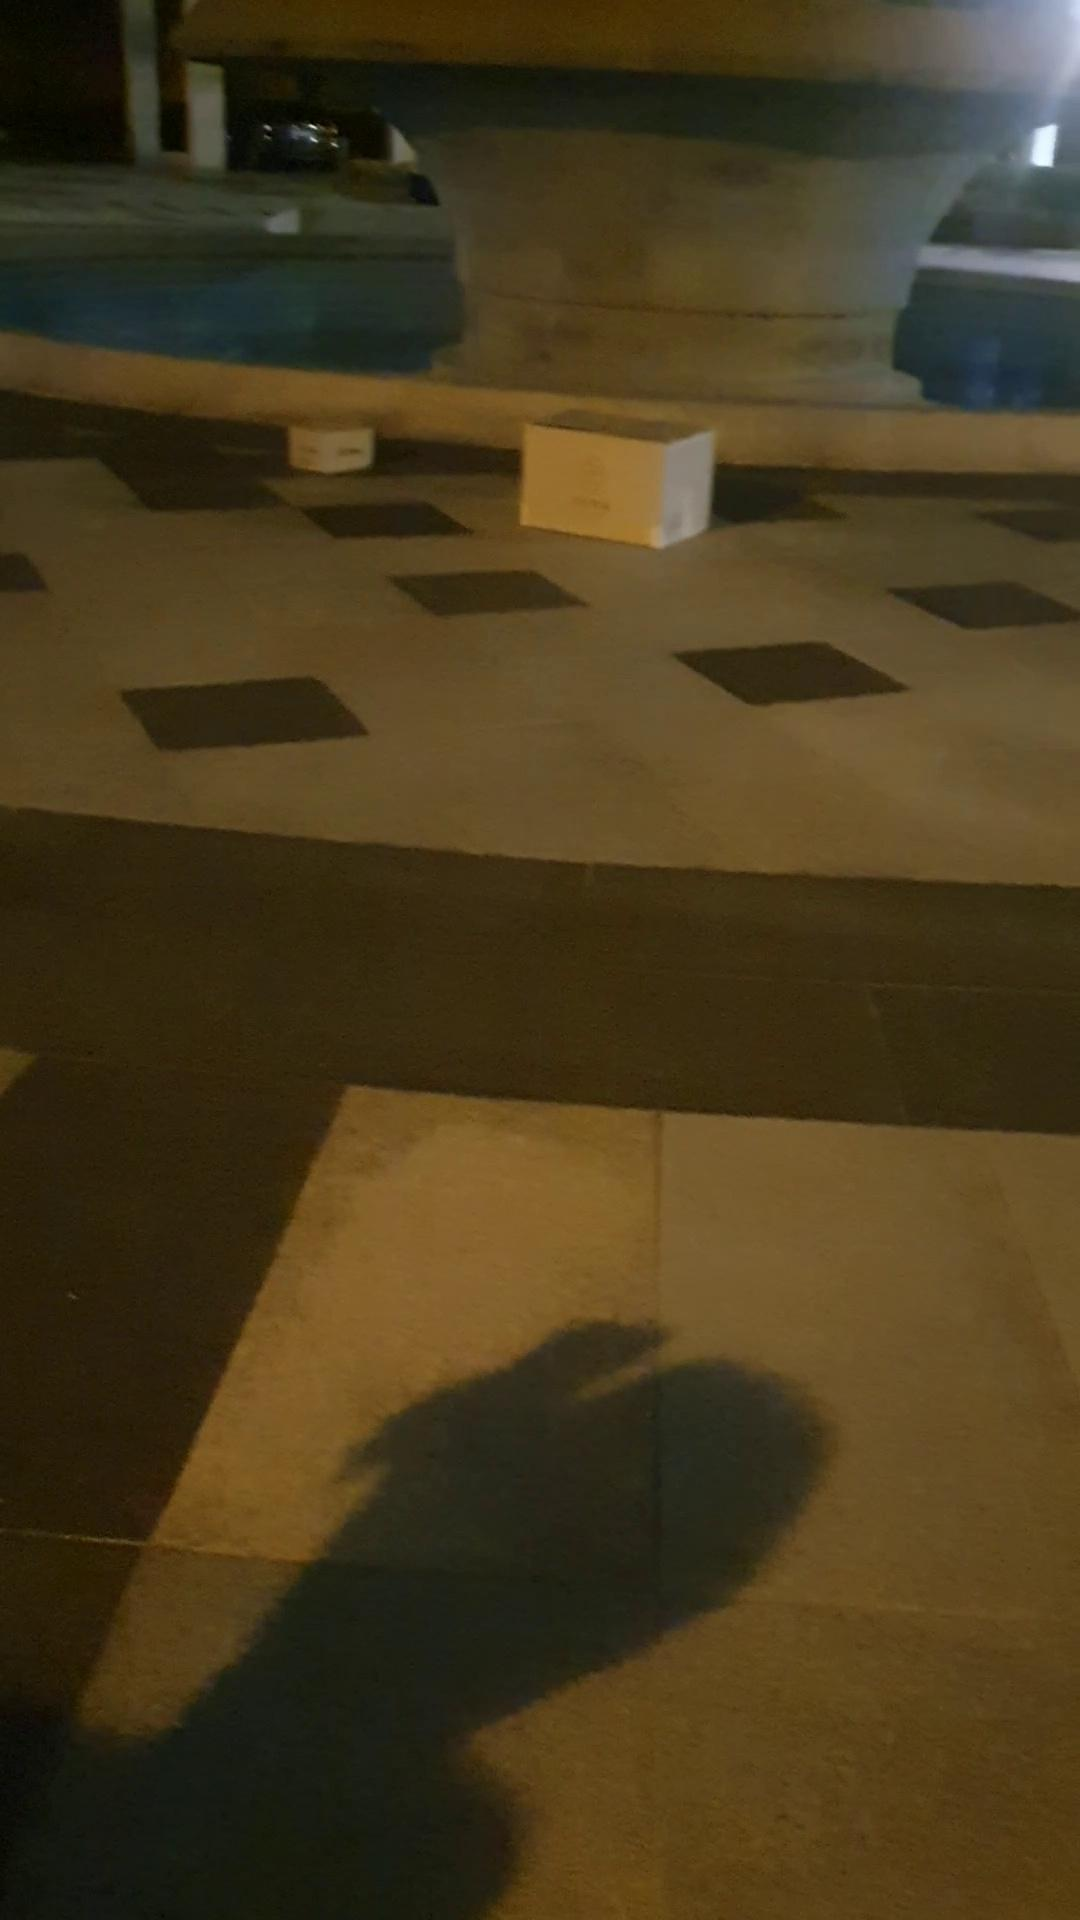Box: (518, 396, 712, 560), (286, 393, 373, 480)
